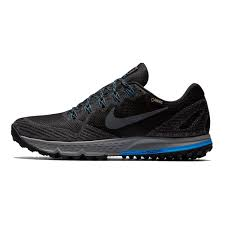nike: (104, 105, 170, 130)
